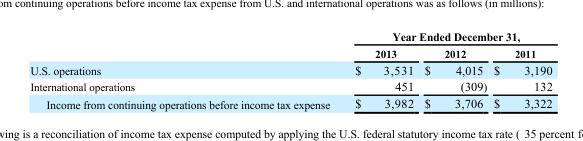table: (29, 29, 551, 110)
table column: (29, 29, 341, 110), (341, 29, 418, 110), (418, 29, 489, 110), (489, 29, 551, 110)
table column header: (29, 29, 551, 60)
table row: (29, 60, 551, 77), (29, 77, 551, 94), (29, 44, 551, 60), (29, 94, 551, 110), (29, 29, 551, 44)
table spanning cell: (341, 29, 551, 44)
